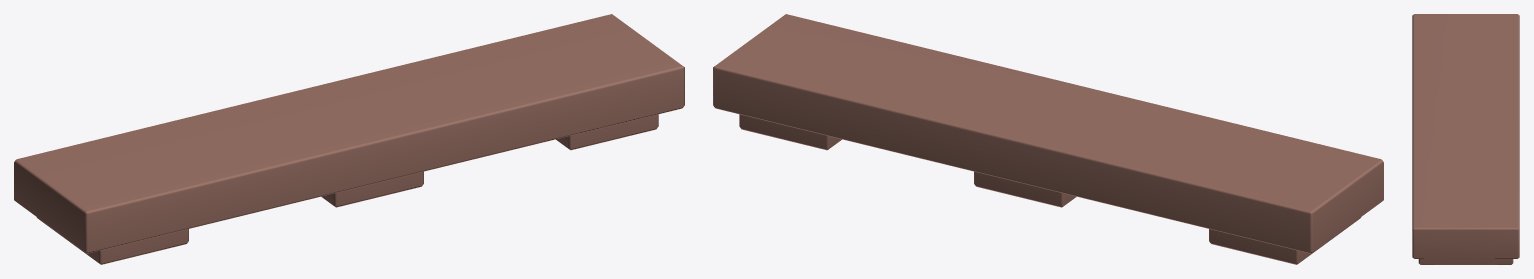
Rendered from Farm_15_Stand_1.glb.
3 views of the same model, side by side, from view 1: azimuth 30°, elevation 25°; view 2: azimuth 150°, elevation 25°; view 3: azimuth 270°, elevation 25° (orthographic). The views are drawn at different scales.
Visible parts, largest first — view 1: Farm_15_Stand_1; view 2: Farm_15_Stand_1; view 3: Farm_15_Stand_1.
Boxes of the visible parts, box(x1,y1,x2,y2) form: Farm_15_Stand_1: box(14, 14, 684, 264); Farm_15_Stand_1: box(713, 14, 1383, 264); Farm_15_Stand_1: box(1412, 14, 1519, 264).
Size of the model in its own units: 4.51 by 0.4427 by 0.9524.
Materials: 1 (1 with a texture image).
